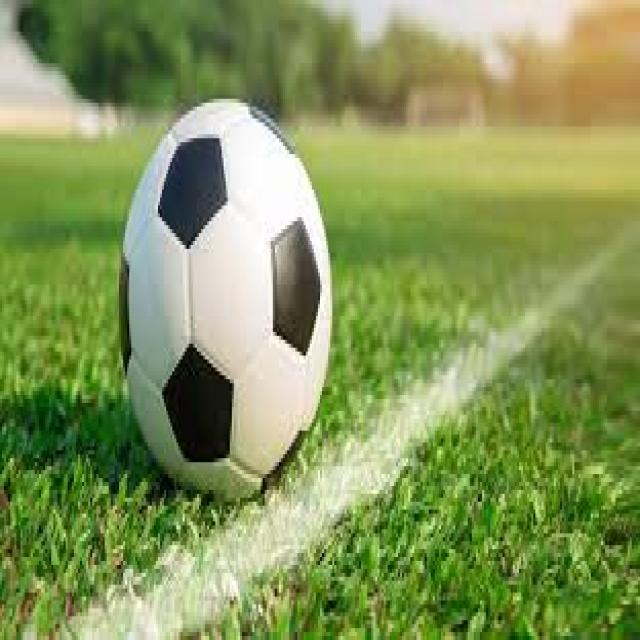ball: (120, 99, 332, 486)
